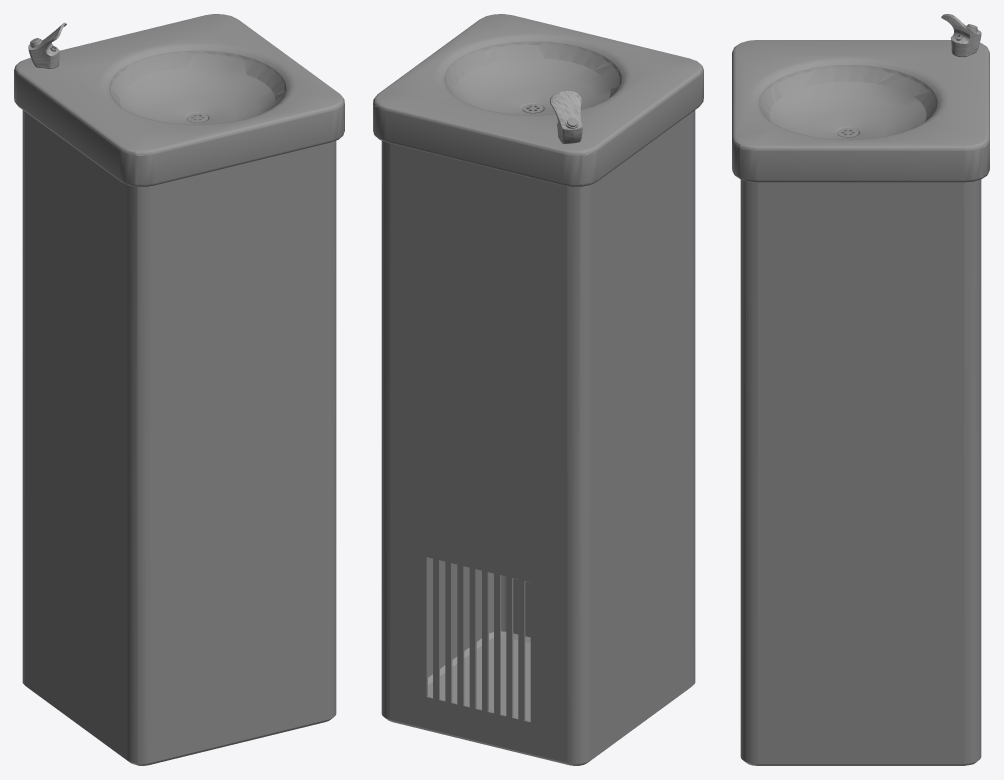
The model's file is Bebedero.glb.
3 renders of one model, left to right at view 1: azimuth 30°, elevation 25°; view 2: azimuth 150°, elevation 25°; view 3: azimuth 270°, elevation 25°, orthographic.
Visible parts, largest first — view 1: d1752035-366b-4fdf-846a-6c71ed95d059, d4159554-7194-4078-aecf-20633a26145c, d2b08b68-d575-43f0-9c8f-79c464eaac9f; view 2: d1752035-366b-4fdf-846a-6c71ed95d059, d4159554-7194-4078-aecf-20633a26145c, d2b08b68-d575-43f0-9c8f-79c464eaac9f; view 3: d1752035-366b-4fdf-846a-6c71ed95d059, d4159554-7194-4078-aecf-20633a26145c, d2b08b68-d575-43f0-9c8f-79c464eaac9f.
Boxes of the visible parts, left/top/right/bottom form: d1752035-366b-4fdf-846a-6c71ed95d059: left=22, top=110, right=336, bottom=765; d4159554-7194-4078-aecf-20633a26145c: left=14, top=14, right=344, bottom=186; d2b08b68-d575-43f0-9c8f-79c464eaac9f: left=28, top=22, right=66, bottom=68; d1752035-366b-4fdf-846a-6c71ed95d059: left=381, top=106, right=695, bottom=765; d4159554-7194-4078-aecf-20633a26145c: left=373, top=14, right=703, bottom=186; d2b08b68-d575-43f0-9c8f-79c464eaac9f: left=550, top=90, right=582, bottom=143; d1752035-366b-4fdf-846a-6c71ed95d059: left=740, top=131, right=981, bottom=765; d4159554-7194-4078-aecf-20633a26145c: left=732, top=40, right=989, bottom=182; d2b08b68-d575-43f0-9c8f-79c464eaac9f: left=941, top=14, right=981, bottom=57.
Size of the model in its own units: 0.3506 by 1 by 0.3506.
4 materials, 1 textured.
